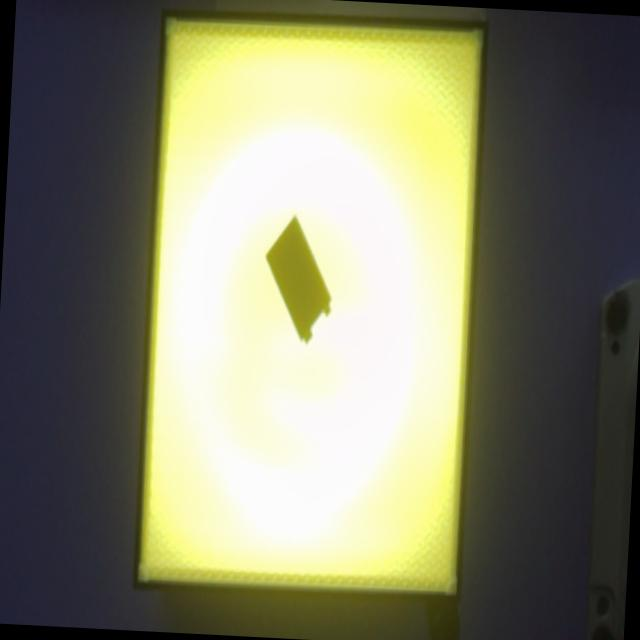bateria: (266, 216, 332, 345)
mesa: (133, 9, 489, 605)
